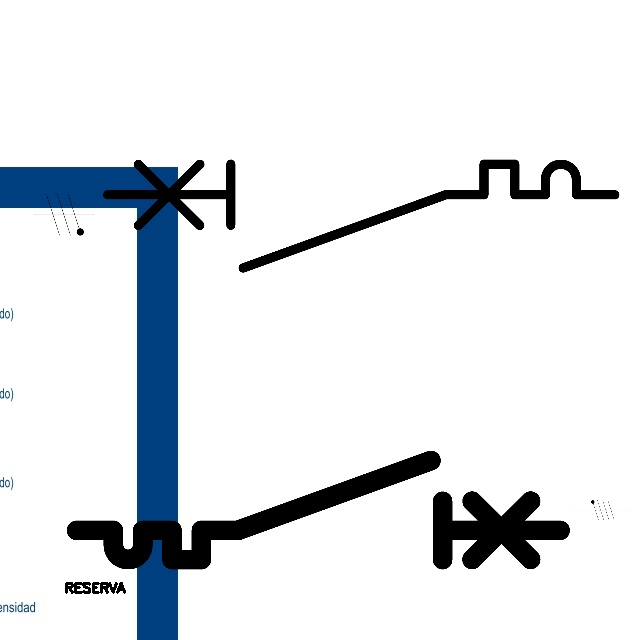interruptor_termomagnetico: (94, 151, 627, 281), (64, 448, 573, 572)
